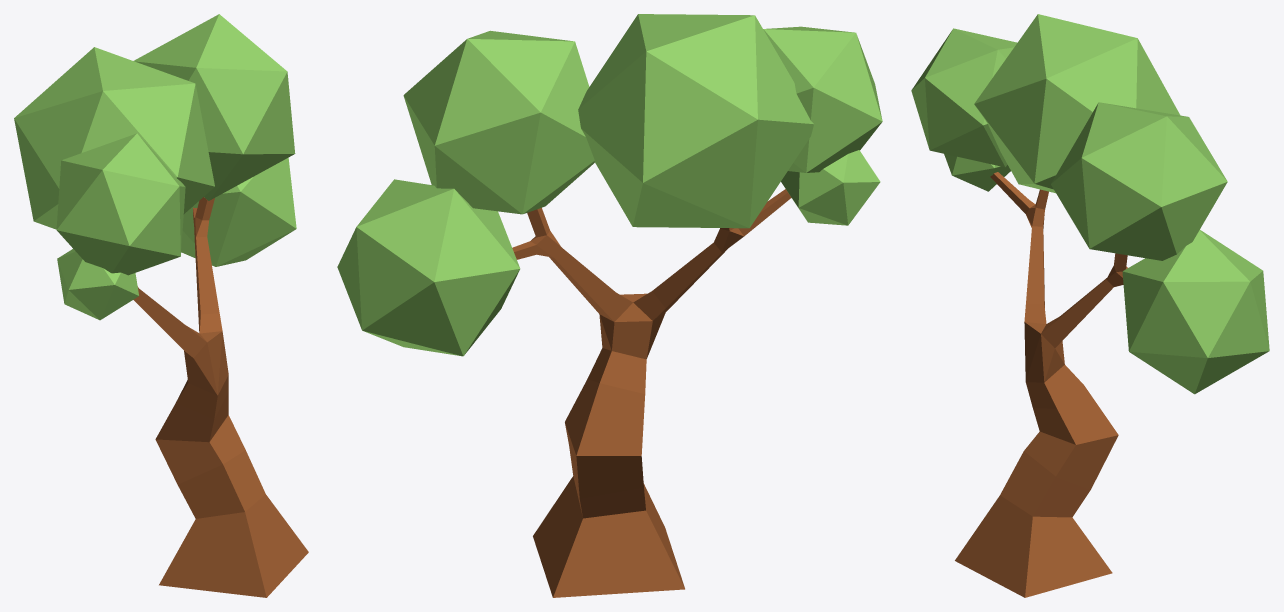
File: treecllasic.fbx
3 renders of one model, left to right at view 1: azimuth 30°, elevation 25°; view 2: azimuth 150°, elevation 25°; view 3: azimuth 270°, elevation 25°, orthographic. The views are drawn at different scales.
Parts seen in each view (by area): view 1: Cube, Icosphere.001, Icosphere.002, Icosphere.004, Icosphere.003, Icosphere; view 2: Icosphere.001, Cube, Icosphere.002, Icosphere.003, Icosphere.004, Icosphere; view 3: Cube, Icosphere.002, Icosphere.001, Icosphere.003, Icosphere.004, Icosphere.
Boxes of the visible parts, box(x1,y1,x2,y2) form: Cube: box(133, 197, 308, 597); Icosphere.001: box(14, 47, 214, 229); Icosphere.002: box(134, 14, 295, 200); Icosphere.004: box(56, 133, 185, 275); Icosphere.003: box(181, 157, 296, 266); Icosphere: box(57, 249, 138, 320); Icosphere.001: box(578, 14, 813, 228); Cube: box(512, 189, 791, 597); Icosphere.002: box(403, 30, 594, 214); Icosphere.003: box(337, 179, 520, 356); Icosphere.004: box(763, 26, 882, 172); Icosphere: box(781, 150, 880, 225); Cube: box(955, 172, 1127, 597); Icosphere.002: box(1051, 102, 1227, 260); Icosphere.001: box(974, 14, 1180, 193); Icosphere.003: box(1122, 230, 1269, 394); Icosphere.004: box(911, 28, 1017, 167); Icosphere: box(944, 154, 1010, 191).
Bounding box in the file's own units: 580 × 639 × 883.
